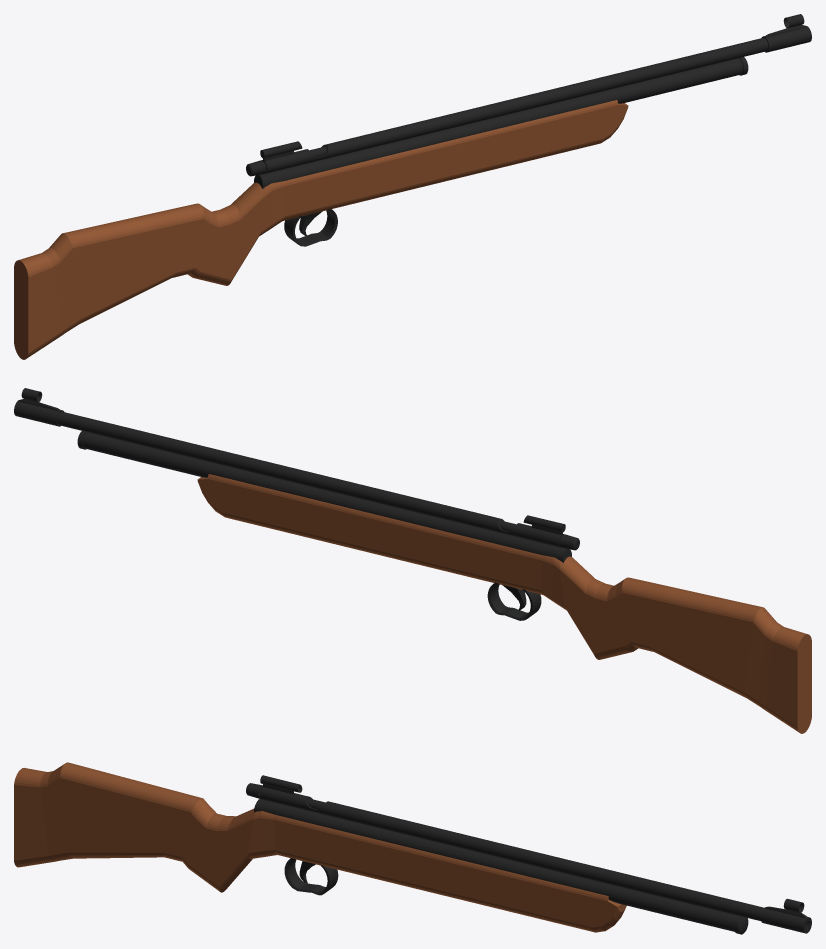
Rendered from gun.fbx.
3 views of the same model, one above another, from view 1: azimuth 30°, elevation 25°; view 2: azimuth 150°, elevation 25°; view 3: azimuth 330°, elevation 25° (orthographic).
Parts seen in each view (by area): view 1: Circle, Cube; view 2: Circle, Cube; view 3: Circle, Cube.
Part boxes in pixels (x1,y1,x2,y2): Circle: (14, 100, 628, 359); Cube: (246, 14, 811, 246); Circle: (197, 474, 811, 733); Cube: (14, 388, 579, 620); Circle: (14, 762, 626, 932); Cube: (246, 775, 811, 934).
Size of the model in its own units: 938 by 176 by 29.9.
